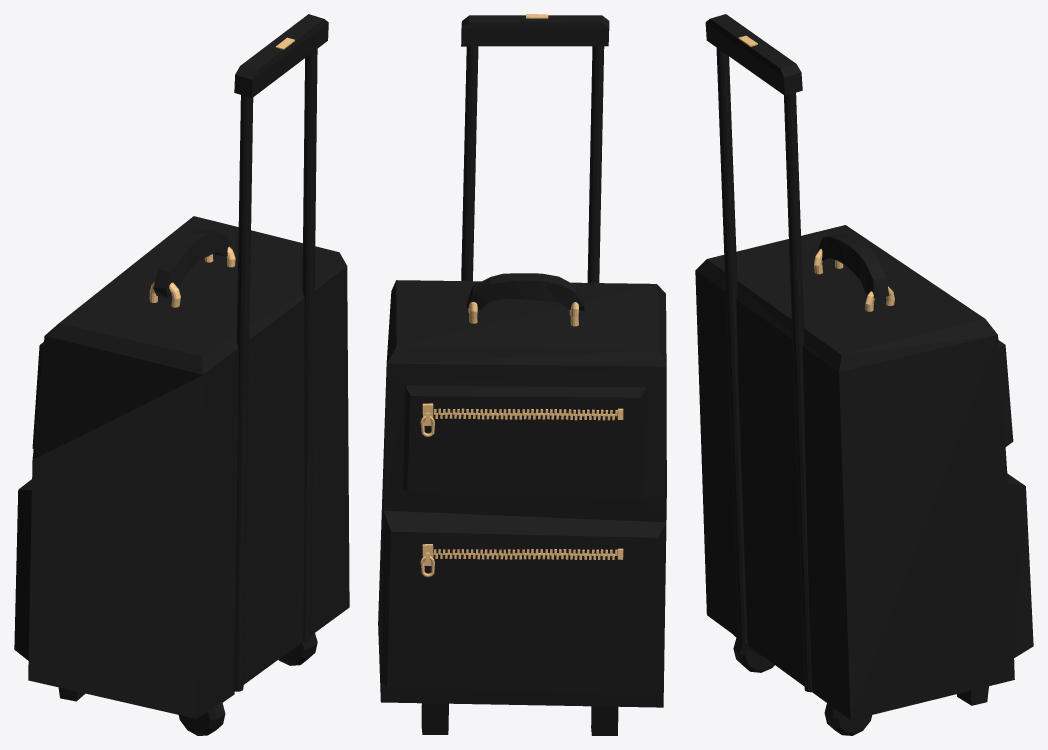
File: scene_NHekAiiuzY.glb
The picture shows the model from 3 angles, left to right: view 1: azimuth 30°, elevation 25°; view 2: azimuth 150°, elevation 25°; view 3: azimuth 270°, elevation 25°; orthographic projection. The views are drawn at different scales.
Visible parts, largest first — view 1: Node; view 2: Node; view 3: Node.
Part boxes in pixels (<box>): Node: <box>14,14,349,735</box>; Node: <box>378,14,666,735</box>; Node: <box>695,14,1033,735</box>.
Size of the model in its own units: 1.47 by 3.02 by 1.39.
